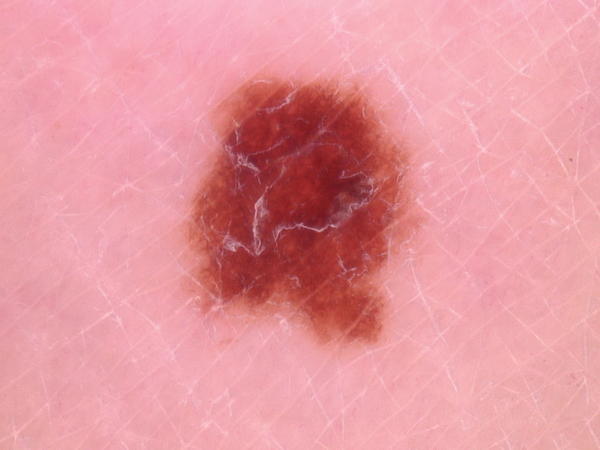Detected Lesion: (178, 62, 416, 352)
